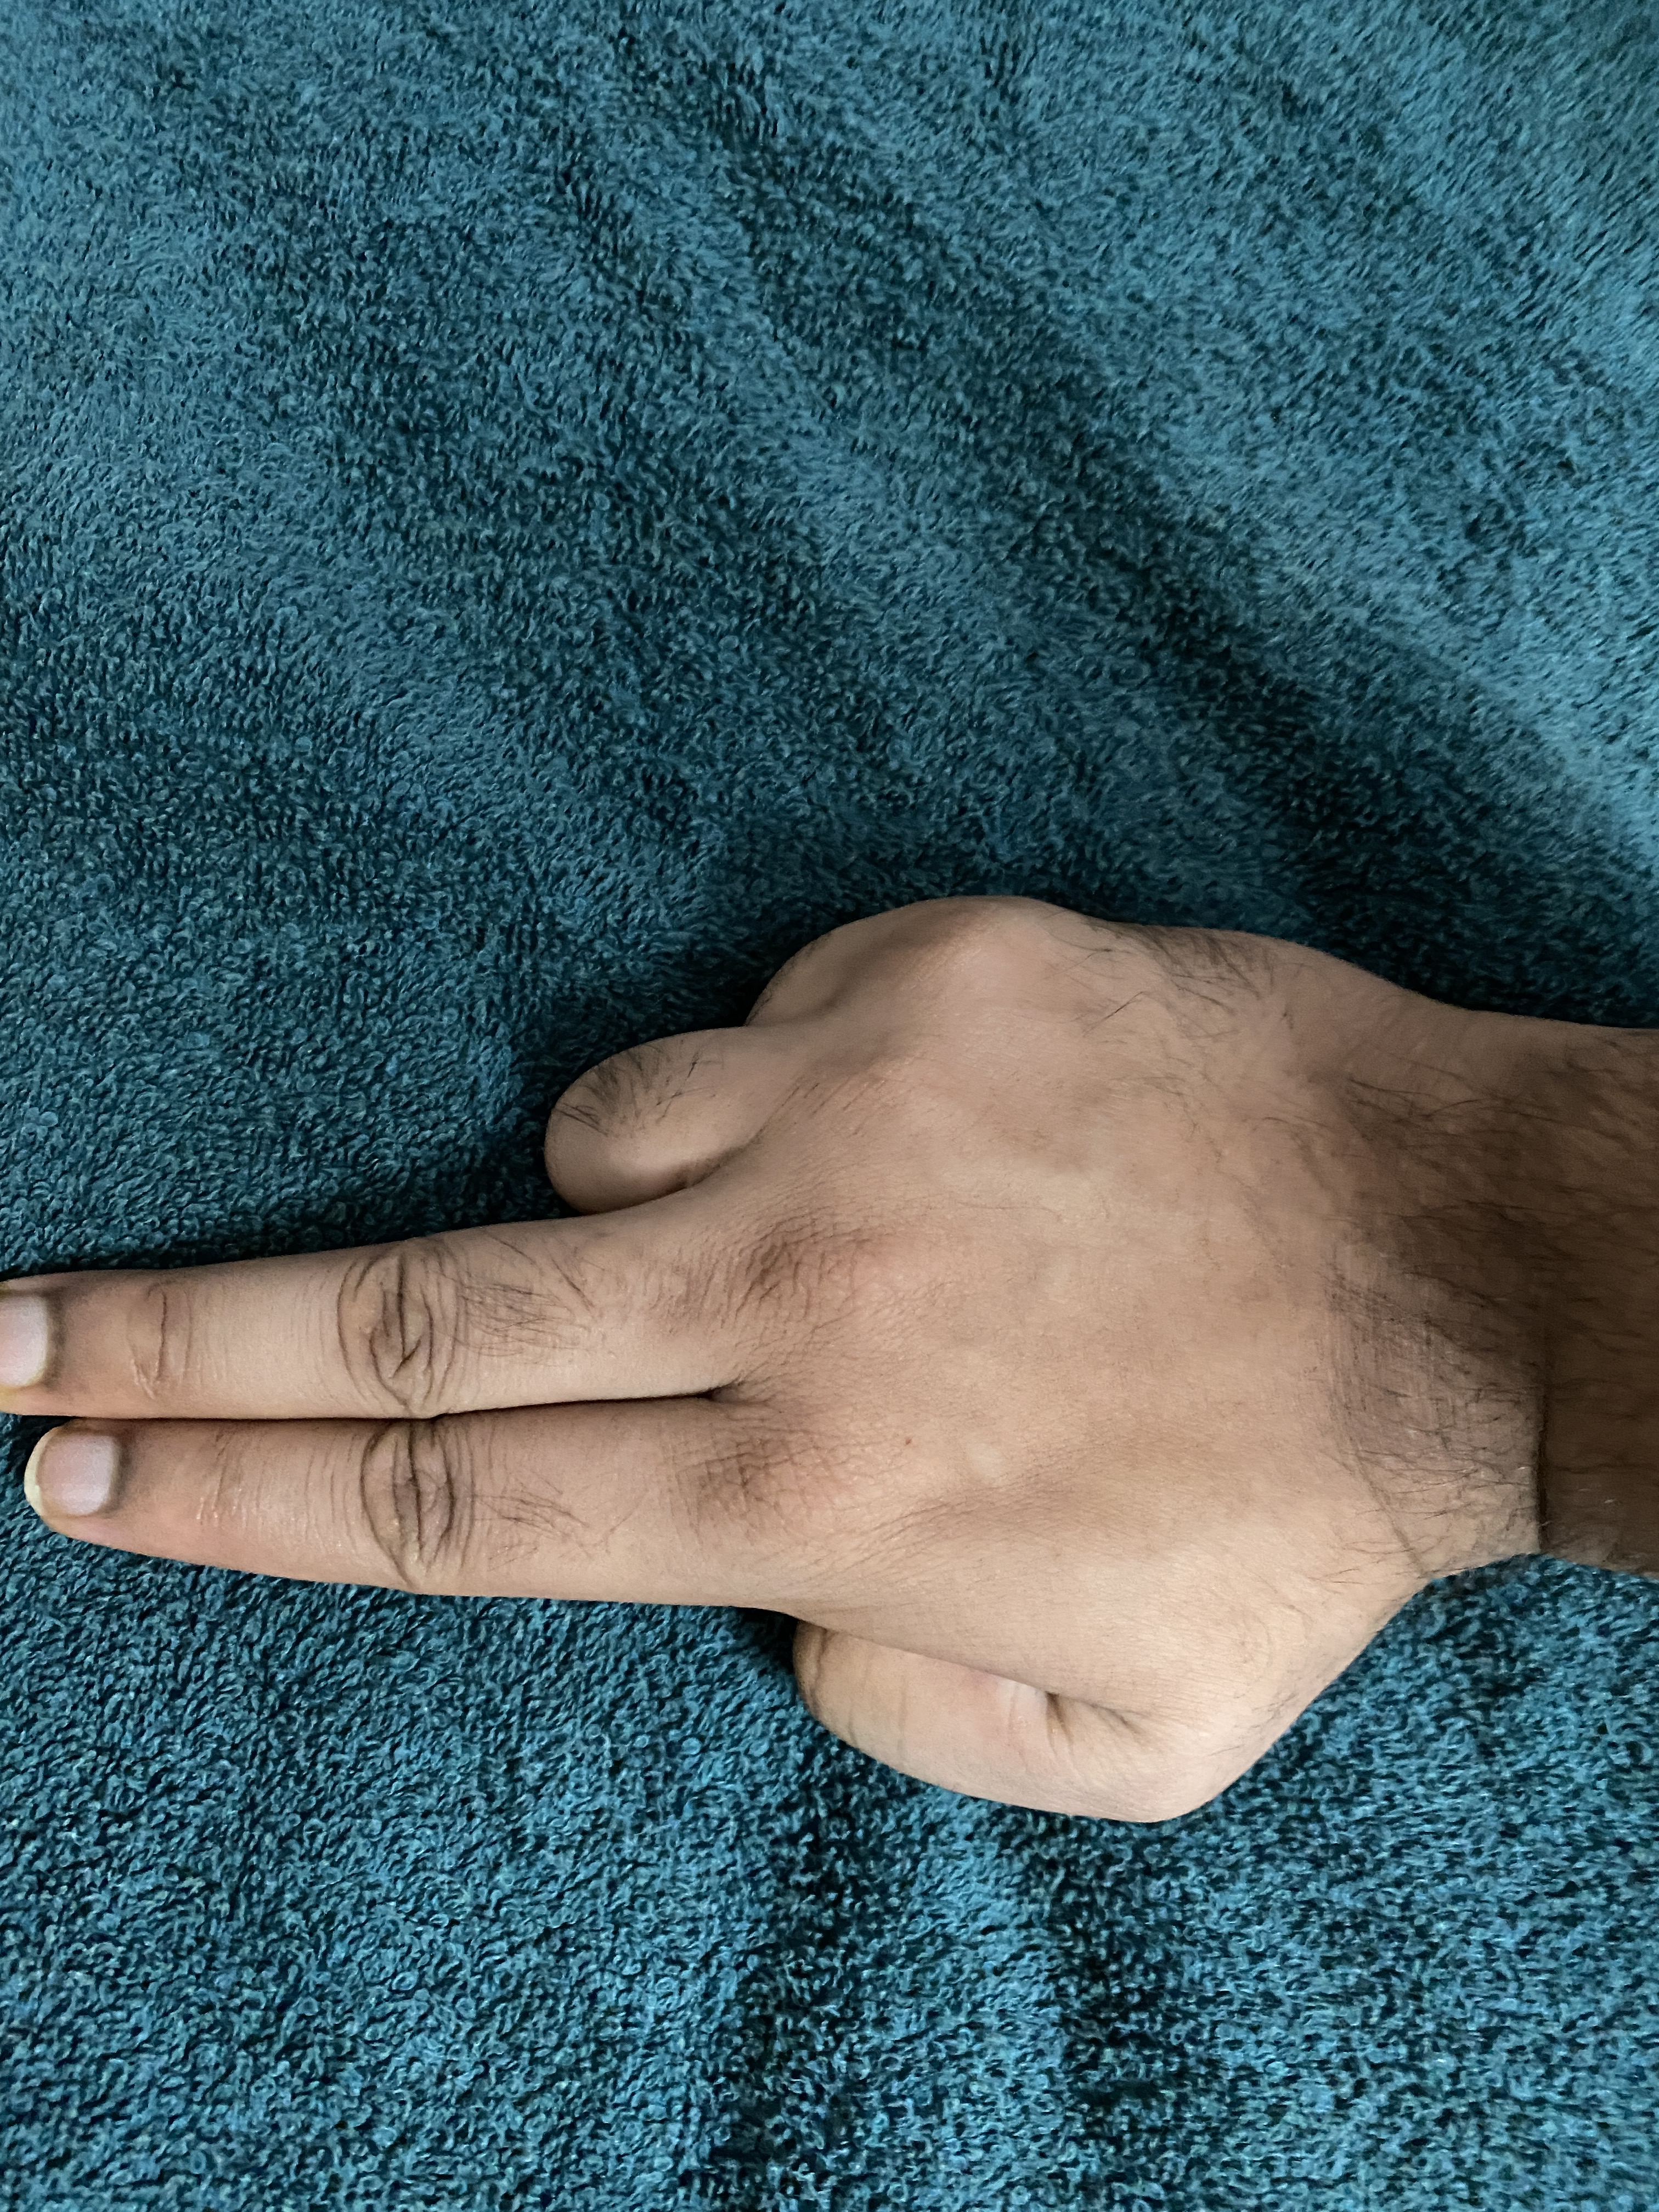right: (21, 686, 1659, 1923)
